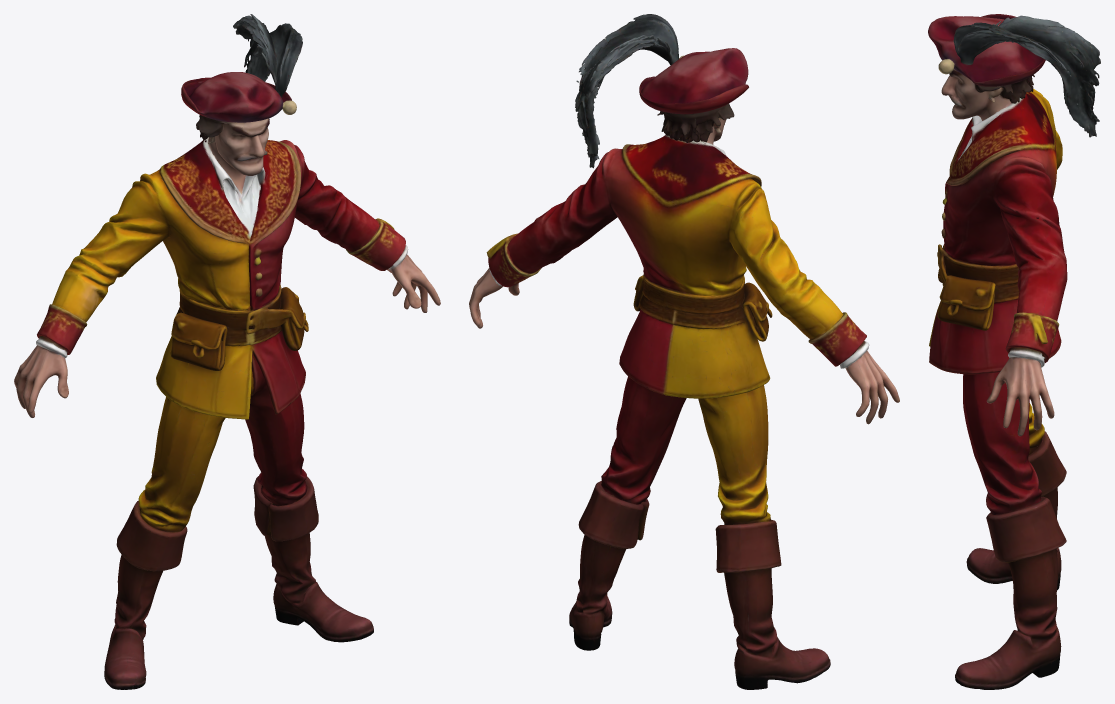
File: model_trellis.glb
The picture shows the model from 3 angles, left to right: view 1: azimuth 30°, elevation 25°; view 2: azimuth 150°, elevation 25°; view 3: azimuth 270°, elevation 25°; orthographic projection. The views are drawn at different scales.
Parts seen in each view (by area): view 1: world; view 2: world; view 3: world.
Part boxes in pixels (left/top/right/bottom): world: left=14, top=14, right=440, bottom=689; world: left=469, top=14, right=899, bottom=689; world: left=928, top=14, right=1100, bottom=689.
Bounding box in the file's own units: 0.7148 × 1 × 0.2474.
1 material, 1 textured.
